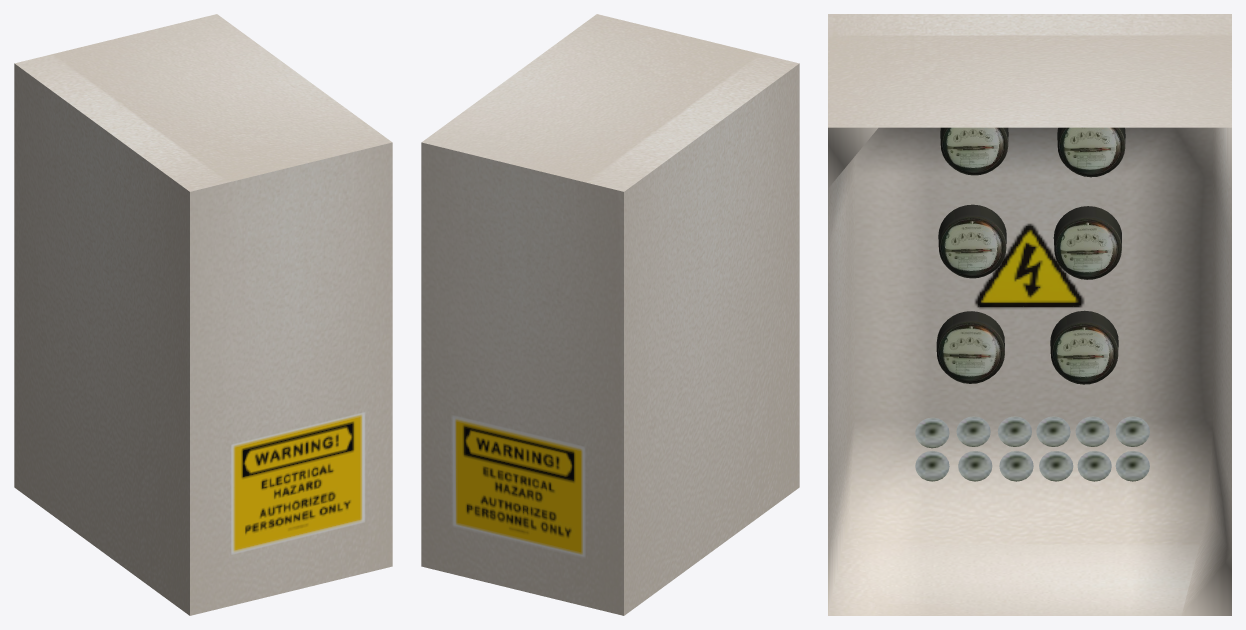
File: FuseBox.fbx
3 renders of one model, left to right at view 1: azimuth 30°, elevation 25°; view 2: azimuth 150°, elevation 25°; view 3: azimuth 270°, elevation 25°, orthographic. The views are drawn at different scales.
Parts seen in each view (by area): view 1: BoxCase; view 2: BoxCase; view 3: BoxCase, pasted__polySurface2_Counter, fuse5, fuse3, fuse9, fuse10, fuse, fuse7, fuse11, fuse12, fuse4, fuse6 (+2 smaller).
Boxes of the visible parts, x1,y1,x2,y2 form: BoxCase: [14, 14, 392, 615]; BoxCase: [421, 14, 799, 615]; BoxCase: [828, 14, 1231, 615]; pasted__polySurface2_Counter: [936, 127, 1125, 384]; fuse5: [1075, 416, 1109, 446]; fuse3: [956, 416, 990, 446]; fuse9: [1039, 451, 1073, 481]; fuse10: [999, 451, 1033, 481]; fuse: [997, 416, 1031, 446]; fuse7: [1077, 451, 1111, 481]; fuse11: [958, 451, 992, 481]; fuse12: [915, 450, 949, 481]; fuse4: [1036, 416, 1070, 446]; fuse6: [1115, 416, 1149, 446].
Size of the model in its own units: 4 by 8 by 6.
3 materials, 3 textured.
